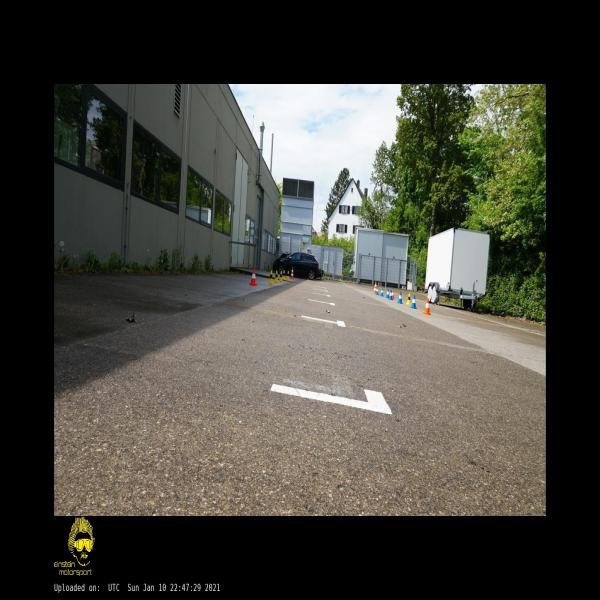blue_cone: (410, 295, 416, 309), (397, 291, 402, 304), (388, 290, 393, 300), (385, 289, 390, 298), (375, 286, 379, 295), (380, 288, 384, 296)
large_orange_cone: (372, 281, 377, 293), (290, 267, 294, 280)
orange_cone: (249, 268, 257, 286), (423, 298, 431, 315), (392, 290, 395, 299)
yellow_cone: (268, 270, 274, 284), (273, 270, 279, 282), (406, 293, 411, 305), (279, 271, 283, 282), (282, 270, 286, 280), (286, 271, 290, 280)
